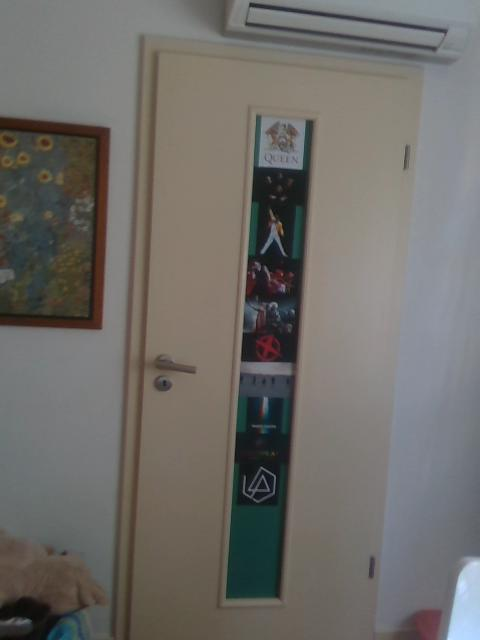door: (127, 47, 409, 636)
